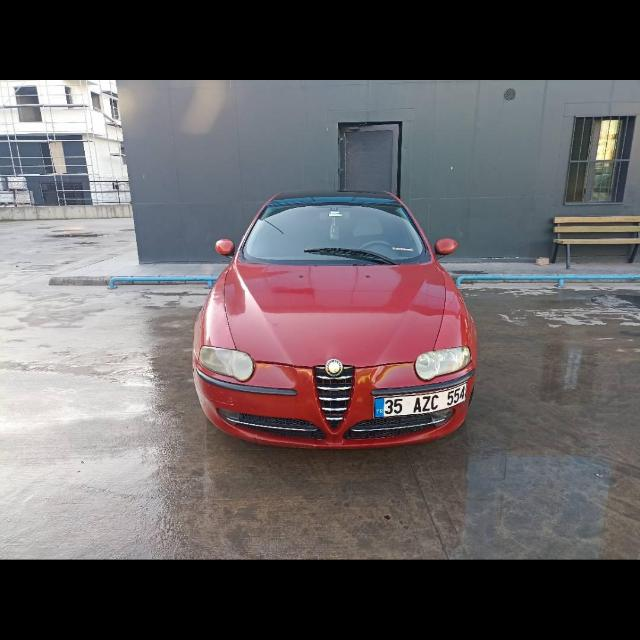Plaka: (373, 384, 467, 418)
